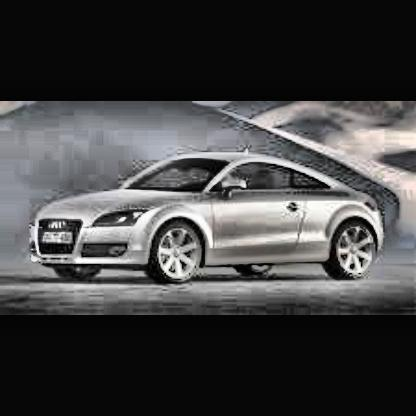Audi TTS Coupe 2012: (33, 151, 384, 282)
